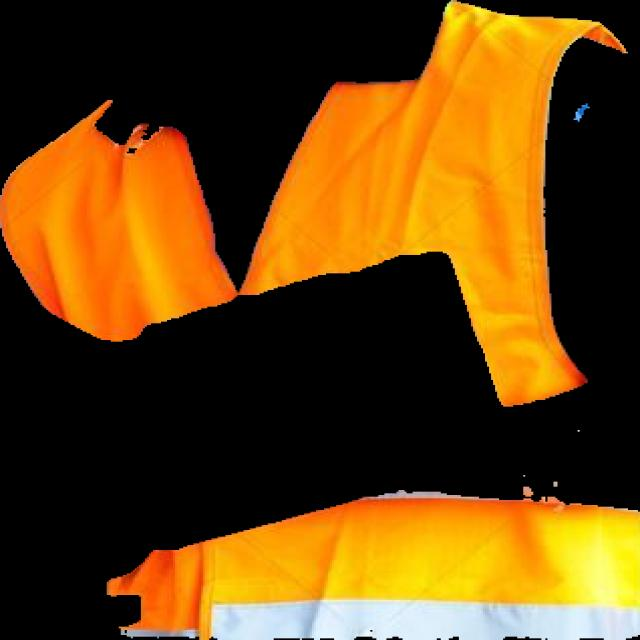Colete: (0, 0, 627, 406)
